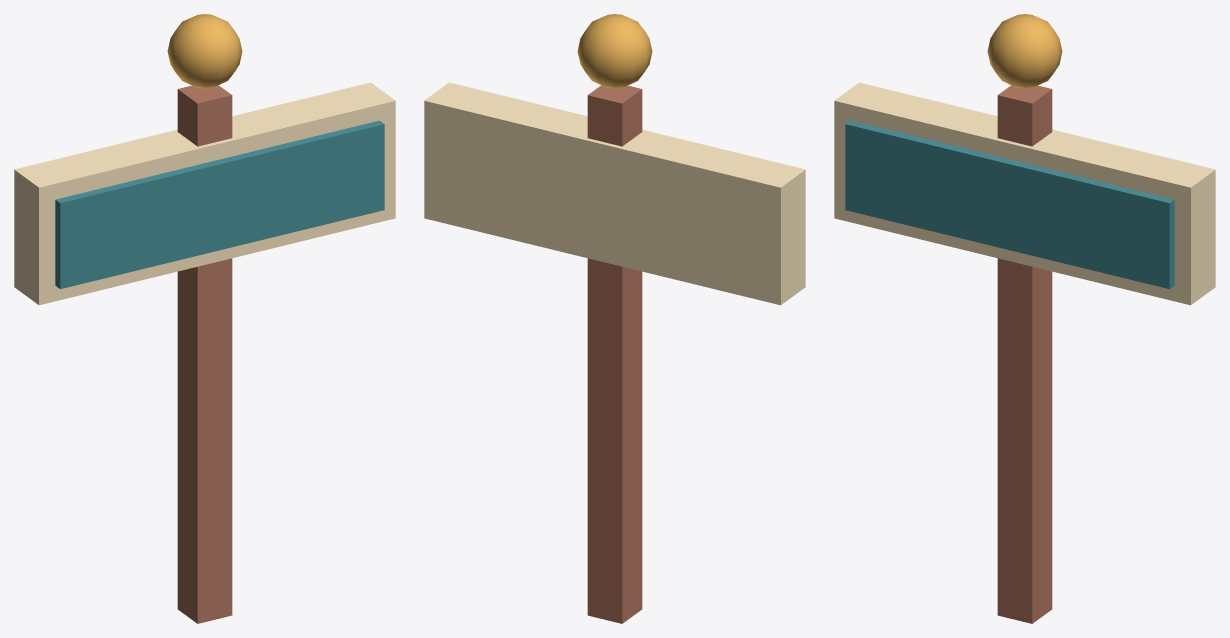
The model's file is prop-square-signpost-4.glb.
3 views of the same model, side by side, from view 1: azimuth 30°, elevation 25°; view 2: azimuth 150°, elevation 25°; view 3: azimuth 330°, elevation 25° (orthographic).
Parts seen in each view (by area): view 1: signpost; view 2: signpost; view 3: signpost.
Part boxes in pixels (x1=…): signpost: x1=14, y1=14, x2=395, y2=623; signpost: x1=424, y1=14, x2=805, y2=623; signpost: x1=834, y1=14, x2=1215, y2=623.
Size of the model in its own units: 1.65 by 2.63 by 0.3.
